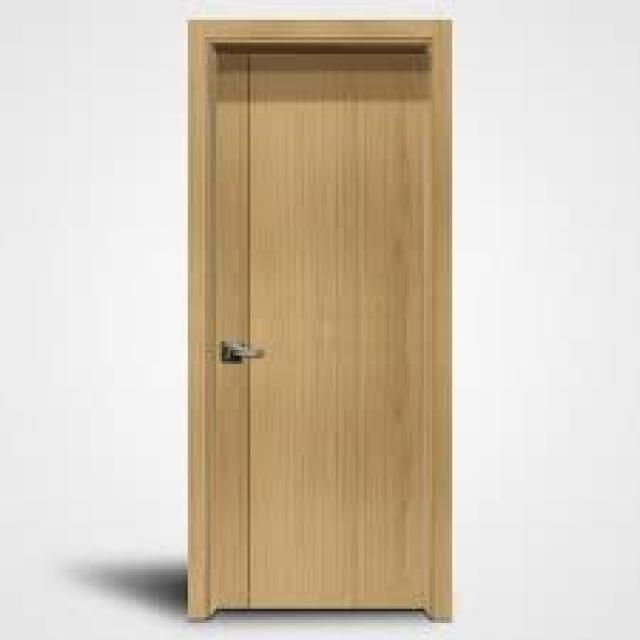door: (186, 17, 454, 623)
